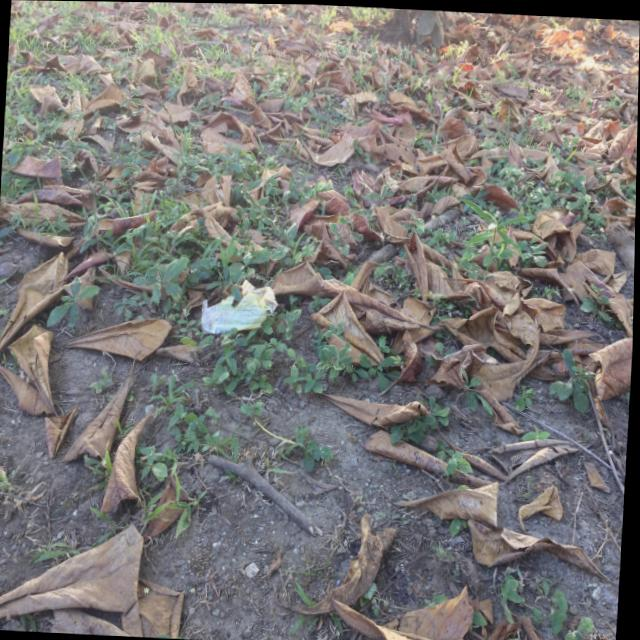Plastic: (183, 273, 300, 337)
